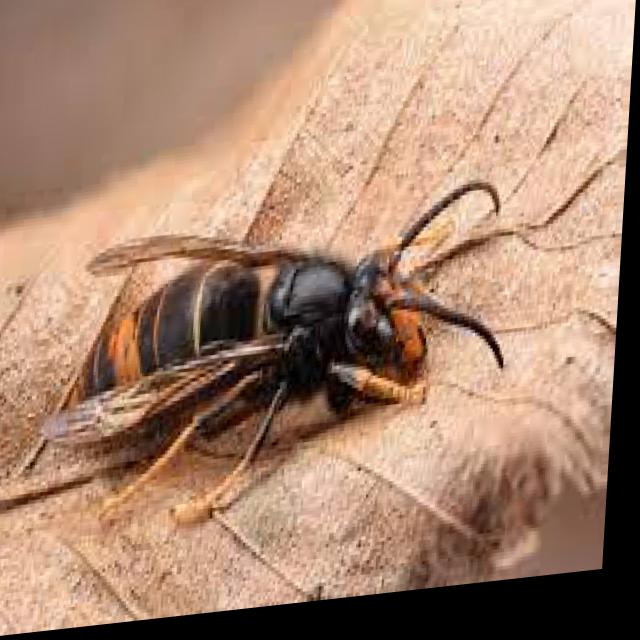Vespa Velutina: (46, 181, 520, 545)
